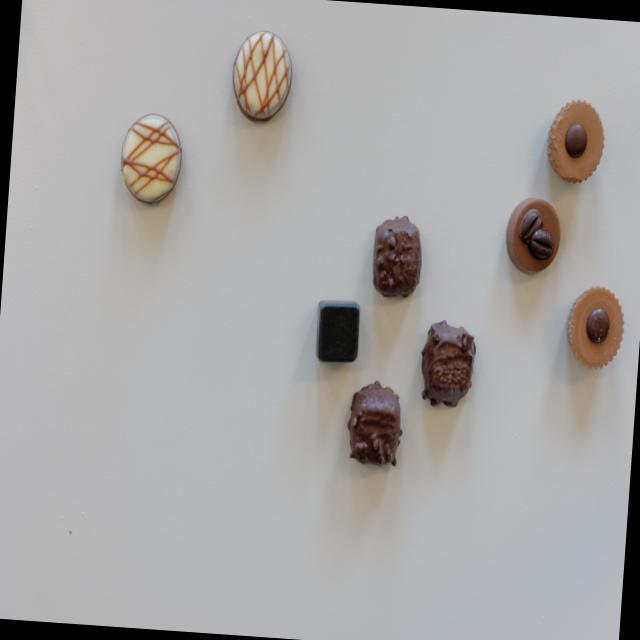Arabia: (502, 194, 563, 279)
Creme_brulee: (117, 112, 184, 206), (230, 29, 296, 124)
Noblesse: (564, 280, 626, 372), (544, 97, 607, 184)
Tentation_noir: (419, 320, 476, 410), (369, 213, 424, 300), (348, 382, 403, 468)
